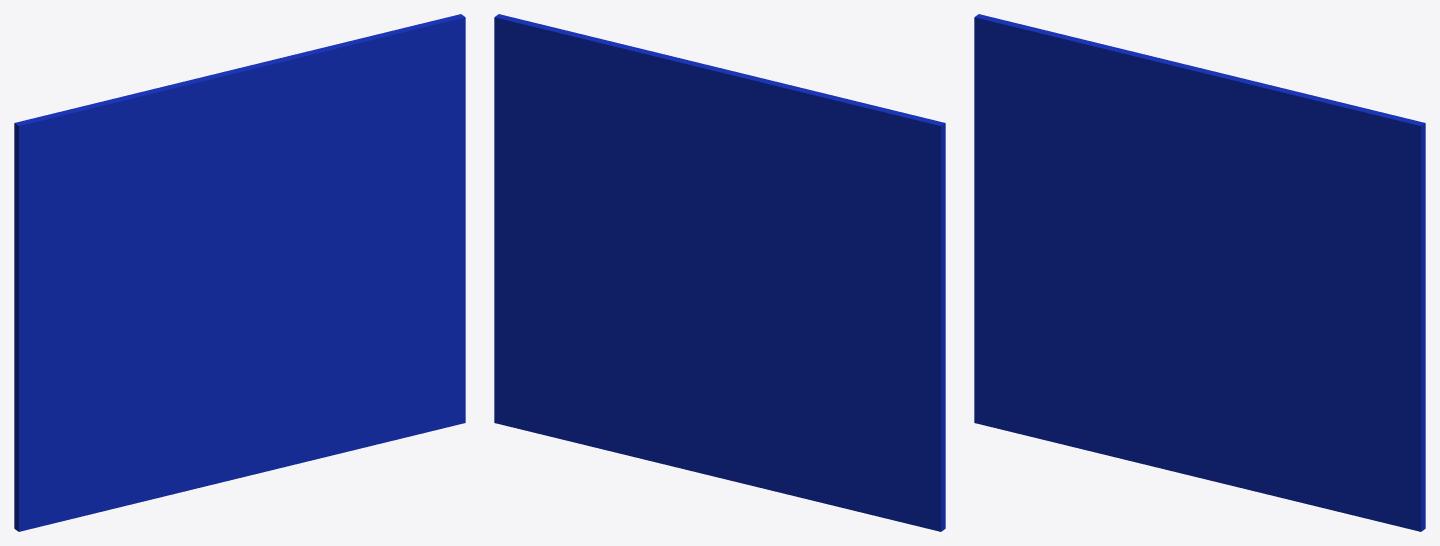
The model's file is front_cover.dae.
3 renders of one model, left to right at view 1: azimuth 30°, elevation 25°; view 2: azimuth 150°, elevation 25°; view 3: azimuth 330°, elevation 25°, orthographic.
Parts seen in each view (by area): view 1: skp3219; view 2: skp3219; view 3: skp3219.
Boxes of the visible parts, x1,y1,x2,y2 form: skp3219: [14, 14, 465, 531]; skp3219: [494, 14, 945, 531]; skp3219: [974, 14, 1425, 531].
Bounding box in the file's own units: 23.04 × 0.3937 × 20.
2 materials, 2 textured.
